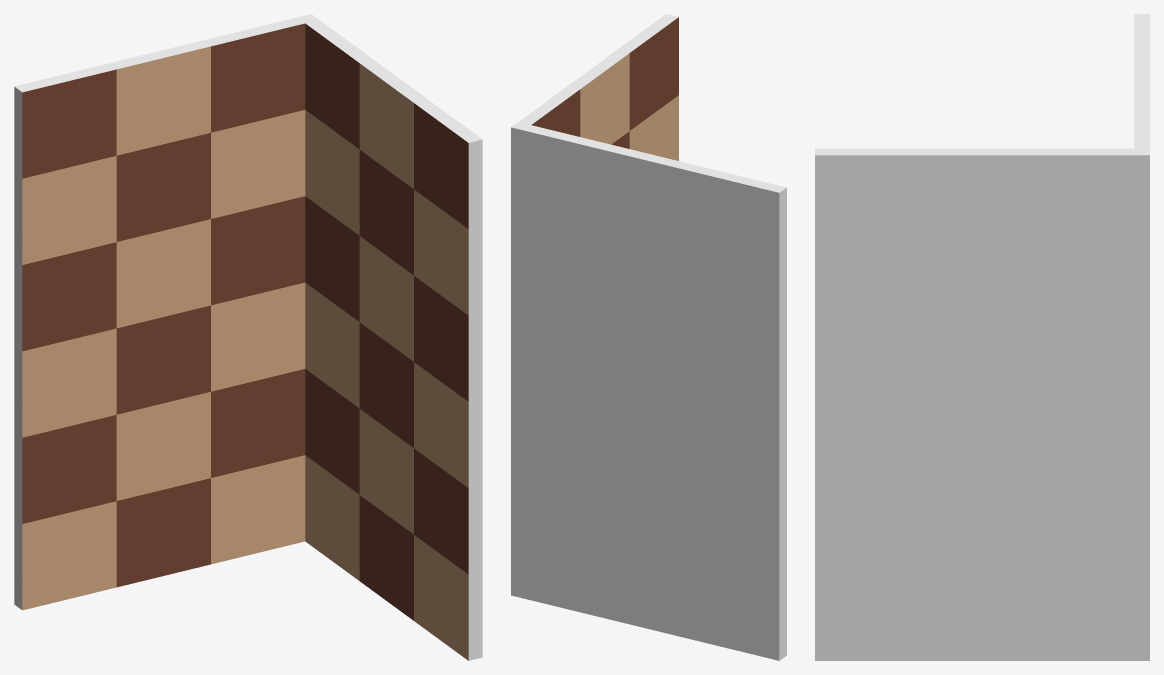
The model's file is Prop_WallCornor_05.fbx.
3 views of the same model, side by side, from view 1: azimuth 30°, elevation 25°; view 2: azimuth 150°, elevation 25°; view 3: azimuth 270°, elevation 25° (orthographic). The views are drawn at different scales.
Parts seen in each view (by area): view 1: Prop_WallCornor_05; view 2: Prop_WallCornor_05; view 3: Prop_WallCornor_05.
Part boxes in pixels (x1,y1,x2,y2): Prop_WallCornor_05: (14,14,482,660); Prop_WallCornor_05: (511,14,786,660); Prop_WallCornor_05: (815,14,1149,660).
Size of the model in its own units: 210 by 350 by 210.
